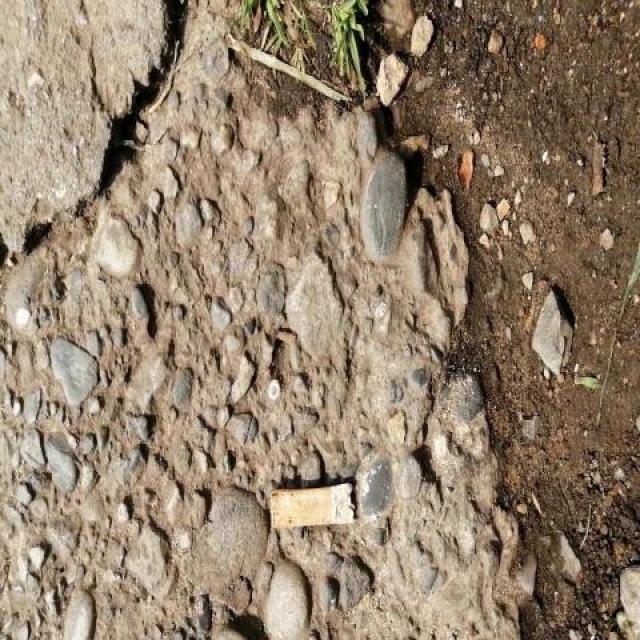non-organic waste: (267, 474, 360, 535)
